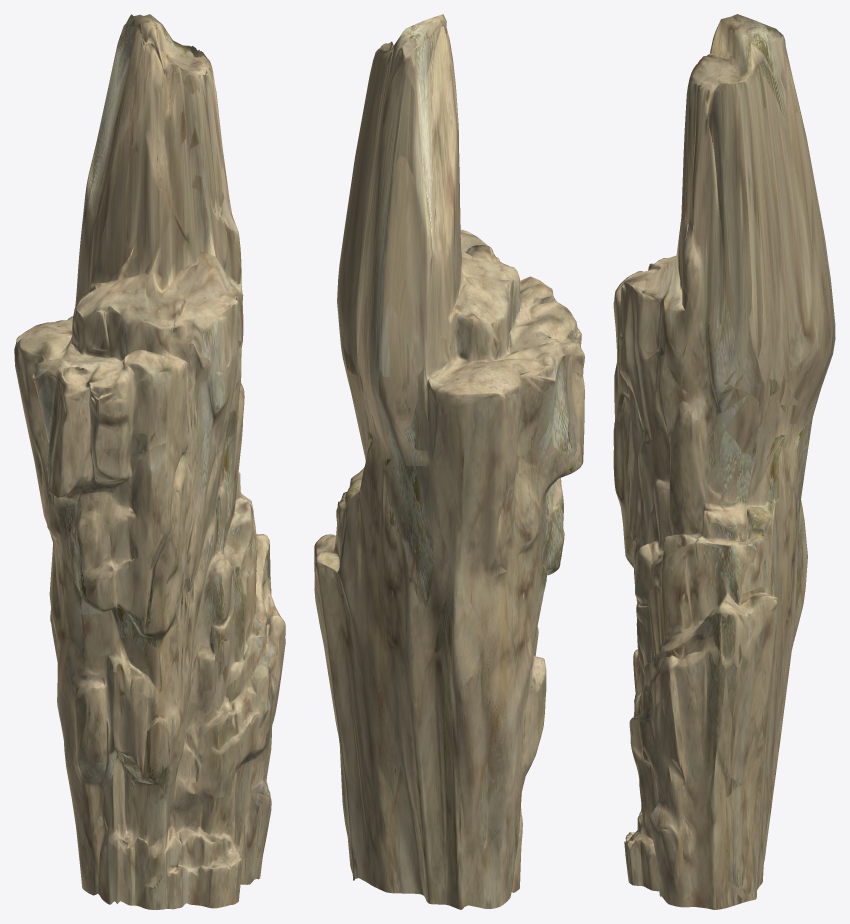
File: jinshuni_3.fbx
The picture shows the model from 3 angles, left to right: view 1: azimuth 30°, elevation 25°; view 2: azimuth 150°, elevation 25°; view 3: azimuth 270°, elevation 25°; orthographic projection. The views are drawn at different scales.
Visible parts, largest first — view 1: polySurface2; view 2: polySurface2; view 3: polySurface2.
Boxes of the visible parts, x1=… form: polySurface2: x1=14, y1=14, x2=285, y2=909; polySurface2: x1=314, y1=14, x2=584, y2=909; polySurface2: x1=613, y1=14, x2=835, y2=909.
Bounding box in the file's own units: 28.49 × 97.42 × 23.09.
1 material, 1 textured.
